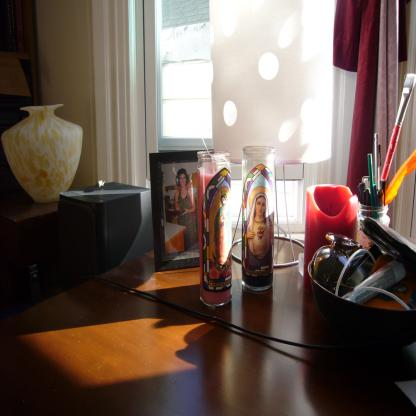vase: (0, 102, 84, 205)
